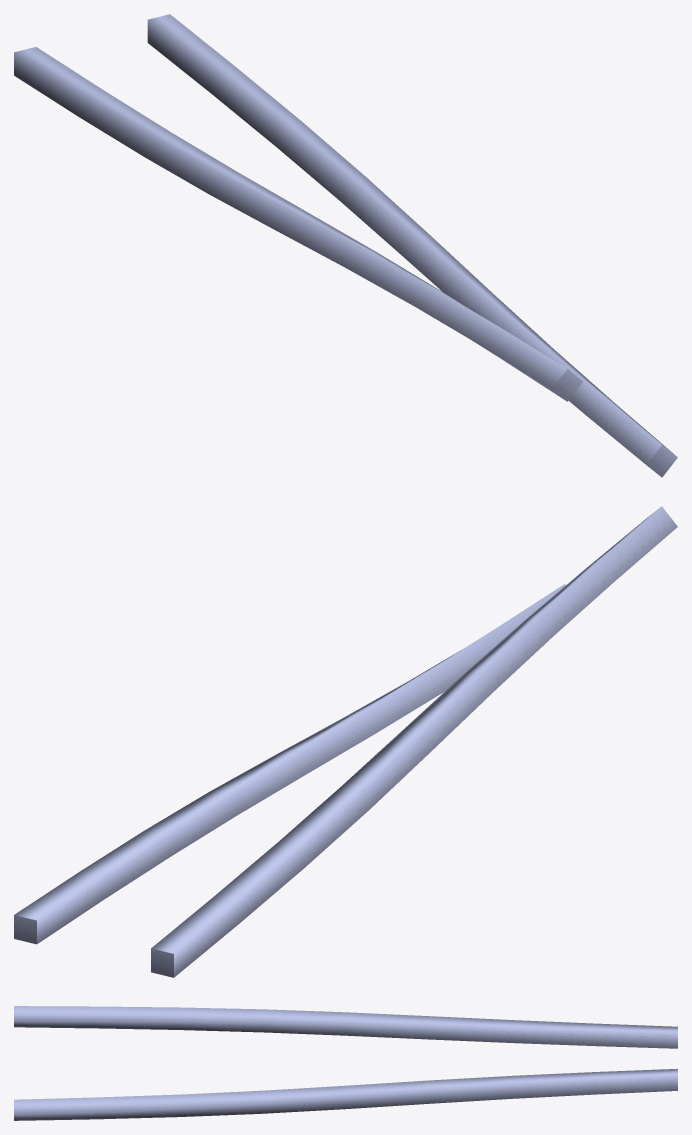
The model's file is railroad-rail-straight-skew-left.glb.
The picture shows the model from 3 angles, top to bottom: view 1: azimuth 30°, elevation 25°; view 2: azimuth 150°, elevation 25°; view 3: azimuth 270°, elevation 25°; orthographic projection. The views are drawn at different scales.
Parts seen in each view (by area): view 1: railroad-rail-straight-skew-left; view 2: railroad-rail-straight-skew-left; view 3: railroad-rail-straight-skew-left.
Part boxes in pixels (x1,y1,x2,y2): railroad-rail-straight-skew-left: (14, 14, 677, 477); railroad-rail-straight-skew-left: (14, 506, 677, 977); railroad-rail-straight-skew-left: (14, 1006, 677, 1120).
Size of the model in its own units: 0.7139 by 0.5654 by 4.
1 material, 1 textured.
